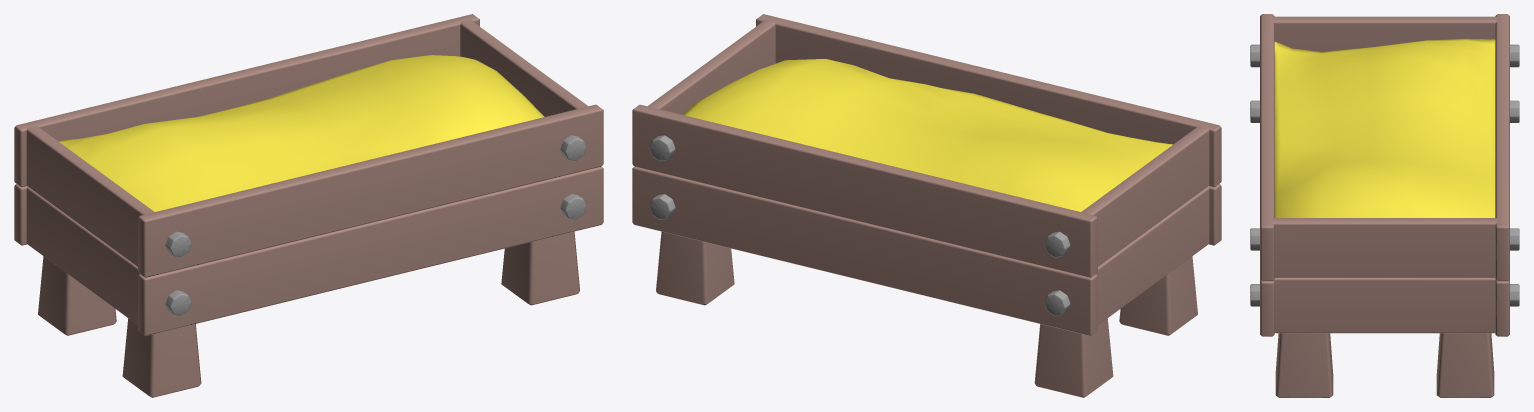
File: Farm_5_Full_Box_1.glb
3 views of the same model, side by side, from view 1: azimuth 30°, elevation 25°; view 2: azimuth 150°, elevation 25°; view 3: azimuth 270°, elevation 25° (orthographic). The views are drawn at different scales.
Visible parts, largest first — view 1: Farm_5_Full_Box_1; view 2: Farm_5_Full_Box_1; view 3: Farm_5_Full_Box_1.
Part boxes in pixels (x1,y1,x2,y2): Farm_5_Full_Box_1: [14, 14, 603, 397]; Farm_5_Full_Box_1: [632, 14, 1221, 397]; Farm_5_Full_Box_1: [1250, 14, 1519, 397].
Size of the model in its own units: 1.85 by 0.7524 by 0.9879.
Materials: 1 (1 with a texture image).
